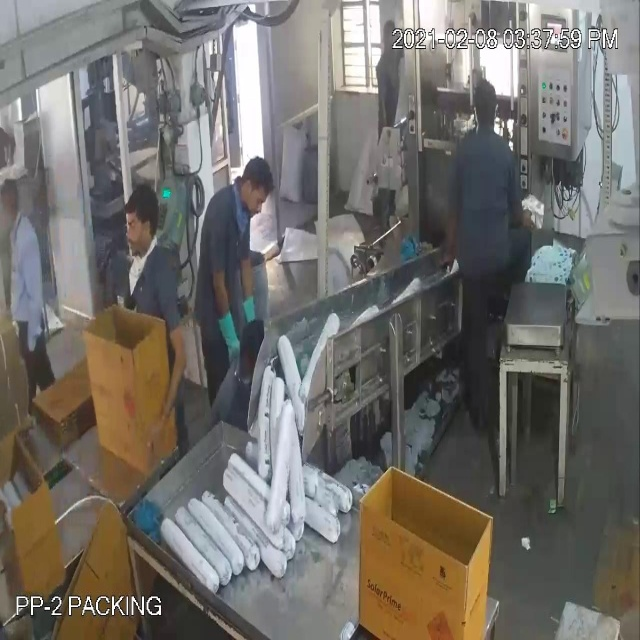Guantes: (237, 280, 264, 348), (213, 303, 240, 366)
Sin_guantes: (145, 315, 198, 454)
